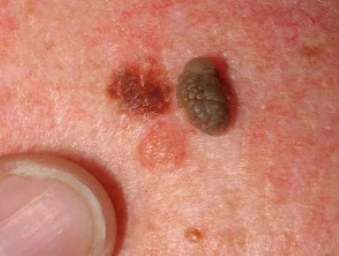seborrheic keratosis: (84, 30, 261, 167)
